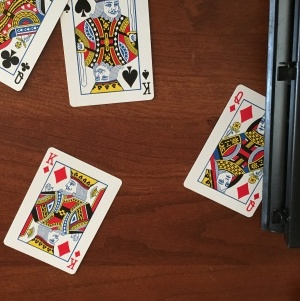card: (3, 146, 122, 273), (182, 83, 264, 218)
